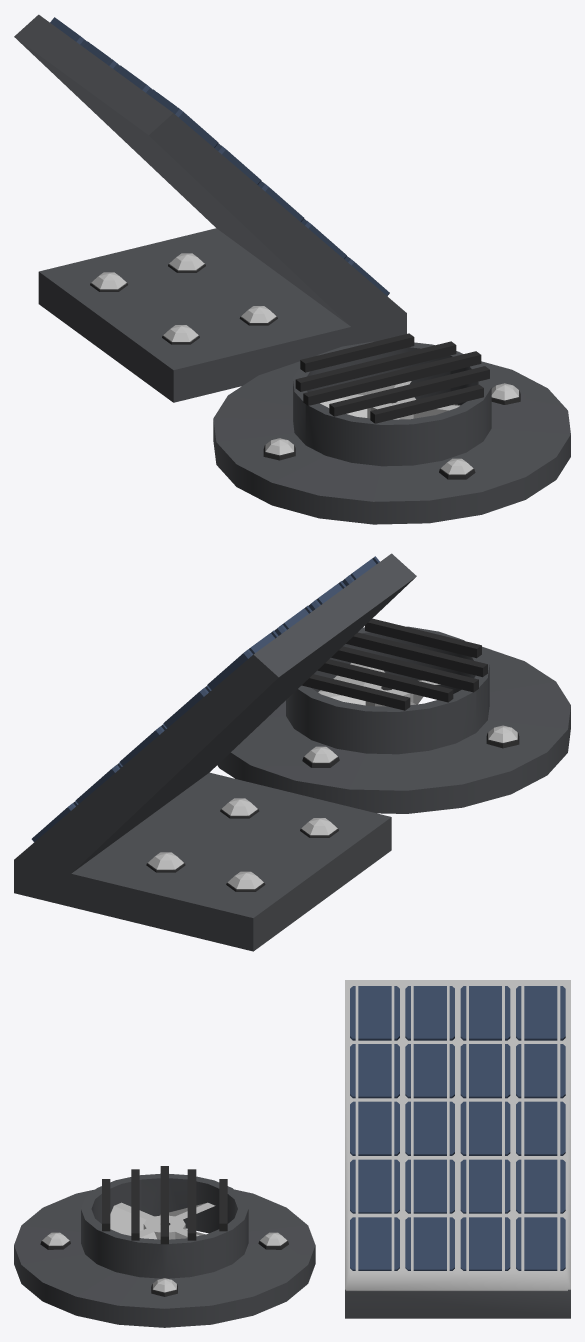
Rendered from 018d7da5-2dcb-41d0-95cc-92ce84a27994.glb.
The picture shows the model from 3 angles, top to bottom: view 1: azimuth 30°, elevation 25°; view 2: azimuth 150°, elevation 25°; view 3: azimuth 270°, elevation 25°; orthographic projection. The views are drawn at different scales.
Visible parts, largest first — view 1: Solar_battery1, Attic_Fan, Fan1; view 2: Solar_battery1, Attic_Fan, Fan1; view 3: Solar_battery1, Attic_Fan, Fan1.
Part boxes in pixels (x1,y1,x2,y2): Solar_battery1: (14,14,406,402); Attic_Fan: (213,333,570,524); Fan1: (320,381,460,419); Solar_battery1: (14,553,416,951); Attic_Fan: (217,618,570,813); Fan1: (318,663,440,706); Solar_battery1: (345,980,570,1318); Attic_Fan: (14,1166,315,1327); Fan1: (110,1202,215,1239).
Size of the model in its own units: 720 by 640 by 1330.
1 material, 1 textured.
